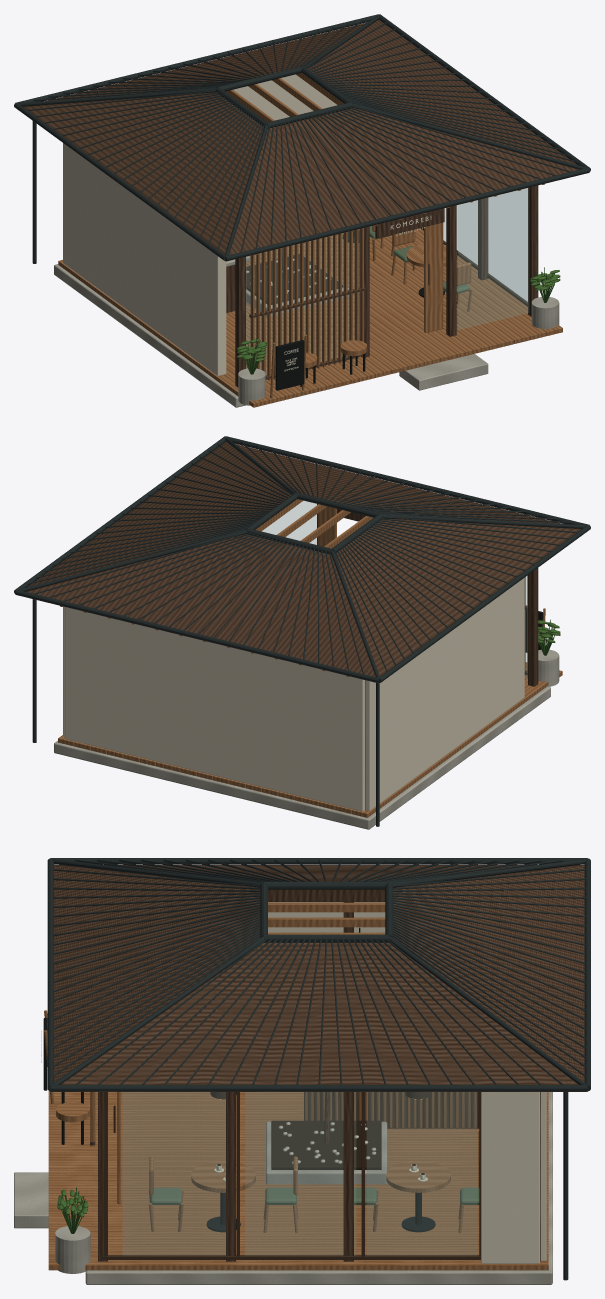
The model's file is courtyard_cafe.glb.
3 views of the same model, one above another, from view 1: azimuth 30°, elevation 25°; view 2: azimuth 150°, elevation 25°; view 3: azimuth 270°, elevation 25° (orthographic). The views are drawn at different scales.
Parts seen in each view (by area): view 1: CafeRoof_Smoked_cedar, CafeRoof_Charcoal_roof, CafeShell_Warm_oak, CafeShell_Lime_plaster, CafeGlazing_Clear_glass, CafeShell_Smoked_cedar, CafeShell_Honed_limestone, CafeGarden_Honed_limestone, CafeFurniture_Warm_oak, CafeRoof_Warm_oak, CafeDetails_Black_steel, CafeGarden_Soil (+2 smaller); view 2: CafeShell_Lime_plaster, CafeRoof_Smoked_cedar, CafeRoof_Charcoal_roof, CafeShell_Honed_limestone, CafeShell_Warm_oak, CafeRoof_Warm_oak, CafeShell_Smoked_cedar, CafeGlazing_Clear_glass, CafeGarden_Honed_limestone; view 3: CafeRoof_Smoked_cedar, CafeRoof_Charcoal_roof, CafeGlazing_Clear_glass, CafeShell_Warm_oak, CafeShell_Lime_plaster, CafeShell_Honed_limestone, CafeShell_Smoked_cedar, CafeFurniture_Warm_oak, CafeGarden_Soil, CafeShell_Bronze_metal, CafeGarden_Honed_limestone, CafeCounter_Smoked_cedar (+4 smaller).
Part boxes in pixels (x1,y1,x2,y2): CafeRoof_Smoked_cedar: (23,19,586,261); CafeRoof_Charcoal_roof: (14,14,590,263); CafeShell_Warm_oak: (58,222,562,407); CafeShell_Lime_plaster: (63,74,337,375); CafeGlazing_Clear_glass: (246,188,528,374); CafeShell_Smoked_cedar: (235,185,538,387); CafeShell_Honed_limestone: (54,264,488,407); CafeGarden_Honed_limestone: (238,256,559,405); CafeFurniture_Warm_oak: (305,225,472,367); CafeRoof_Warm_oak: (225,73,544,254); CafeDetails_Black_steel: (275,340,304,390); CafeGarden_Soil: (246,254,343,304); CafeShell_Lime_plaster: (63,578,524,811); CafeRoof_Smoked_cedar: (18,442,581,683); CafeRoof_Charcoal_roof: (14,436,590,826); CafeShell_Honed_limestone: (54,686,550,829); CafeShell_Warm_oak: (58,504,562,817); CafeRoof_Warm_oak: (60,499,373,676); CafeShell_Smoked_cedar: (317,504,538,810); CafeGlazing_Clear_glass: (262,501,527,678); CafeGarden_Honed_limestone: (538,649,559,686); CafeRoof_Smoked_cedar: (51,865,587,1091); CafeRoof_Charcoal_roof: (47,858,590,1280); CafeGlazing_Clear_glass: (123,1092,477,1255); CafeShell_Warm_oak: (48,1091,548,1270); CafeShell_Lime_plaster: (268,902,546,1263); CafeShell_Honed_limestone: (14,1092,552,1284); CafeShell_Smoked_cedar: (90,889,540,1261); CafeFurniture_Warm_oak: (56,1102,479,1232); CafeGarden_Soil: (271,1120,381,1169); CafeShell_Bronze_metal: (103,1092,480,1259); CafeGarden_Honed_limestone: (55,1121,387,1273); CafeCounter_Smoked_cedar: (304,1092,479,1128).
Size of the model in its own units: 7.39 by 4.03 by 7.84.
Materials: 18 (5 with a texture image).
